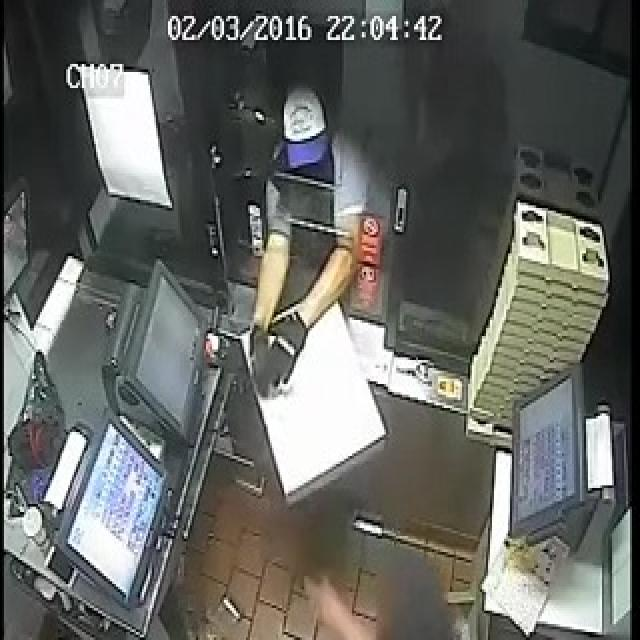thief: (270, 88, 372, 242)
